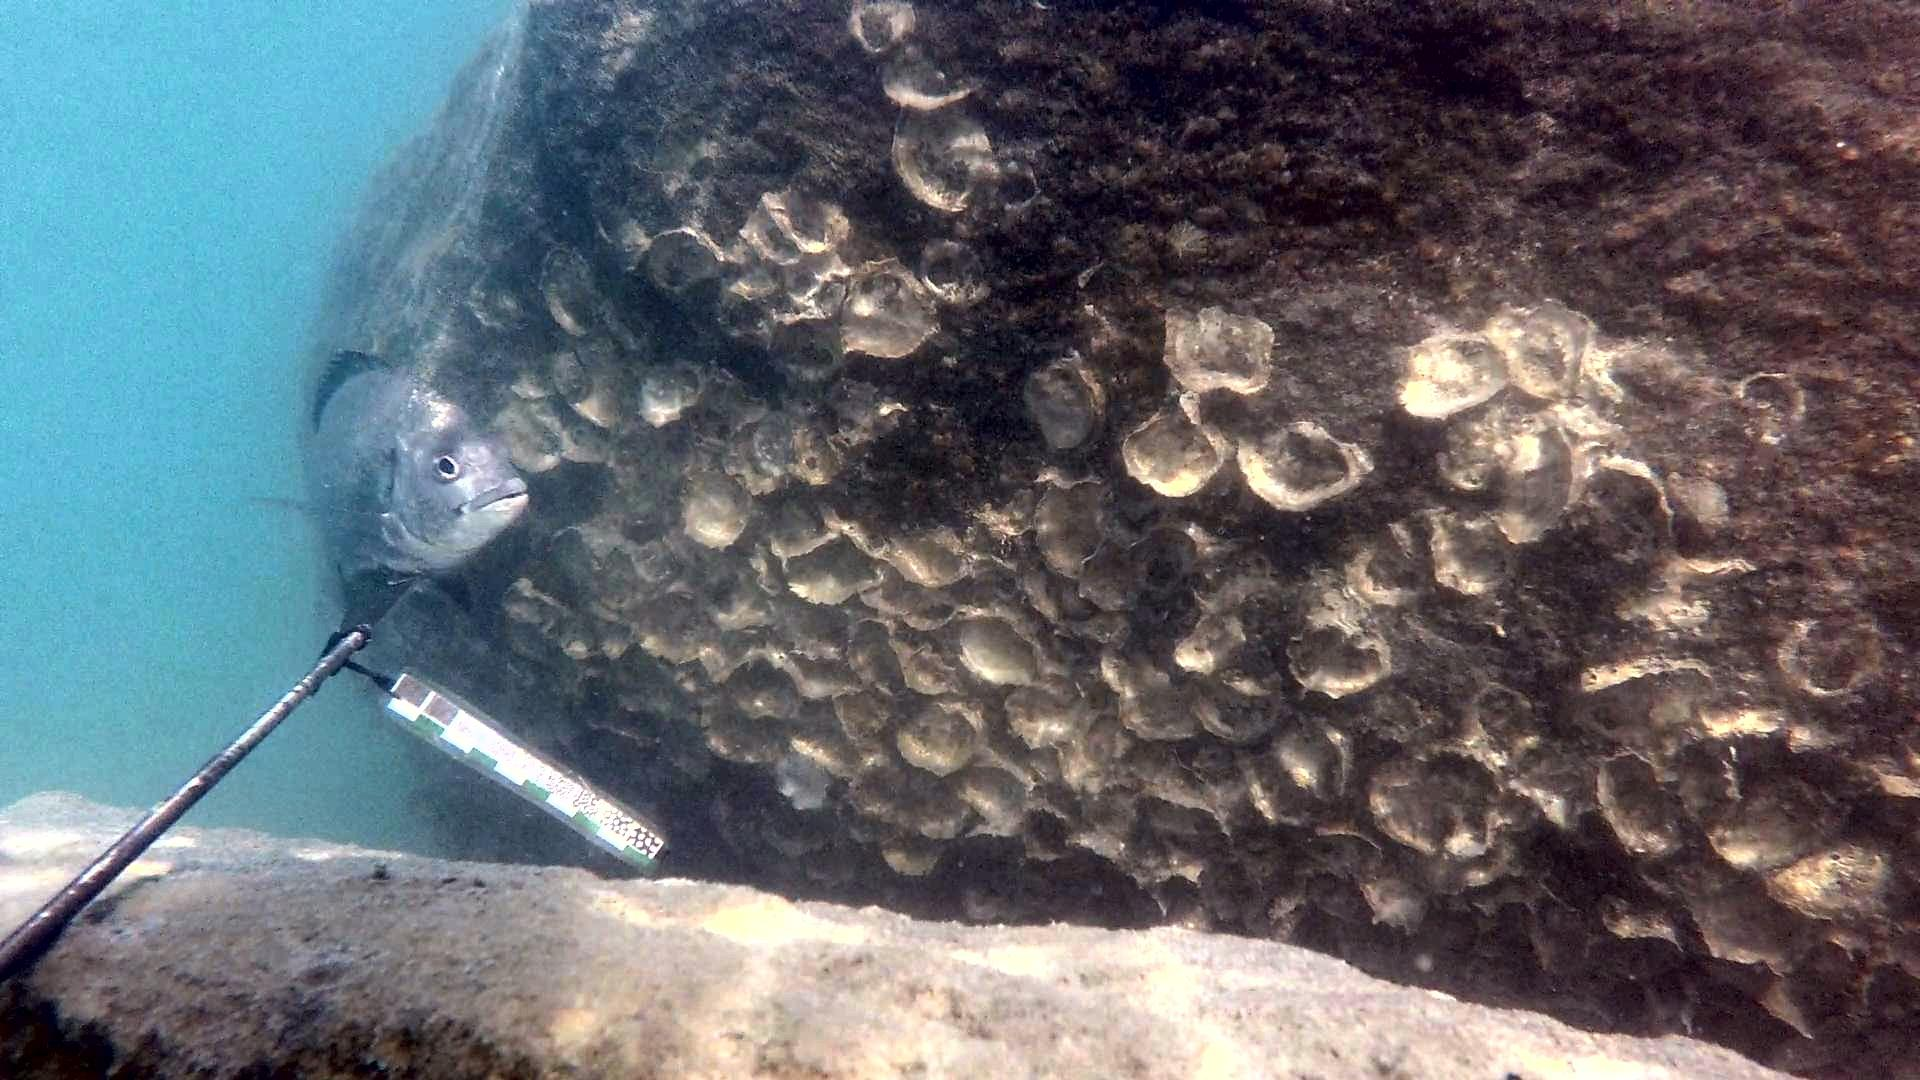acanthopagrus palmaris: (243, 342, 535, 644)
